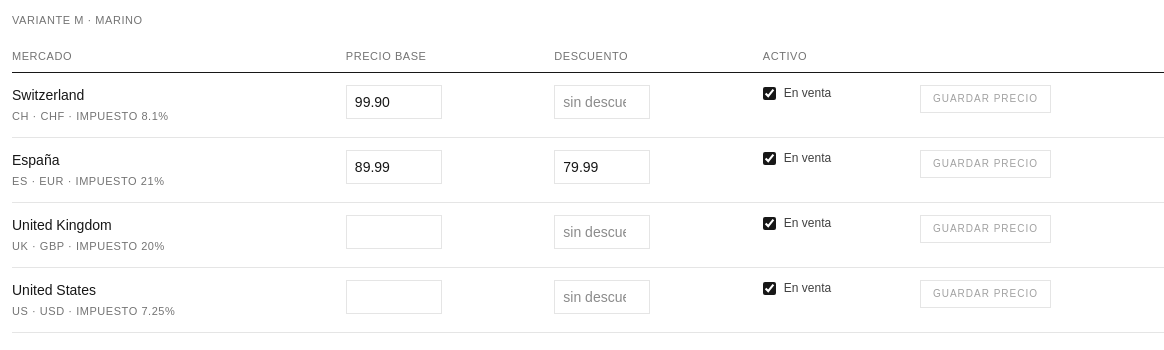
AdminSkuPrices › guarda una fila: PUT al mercado y «Precio guardado» (R7.1)
Check: the text "España" is shown, box [12,152,60,168]
Check: the button "Guardar precio" in the row of "España" is disabled, box [920,150,1051,178]
Replace the text in the 2nd number field named "Precio base en España" with "95" at (394, 167), box [346,150,442,184]
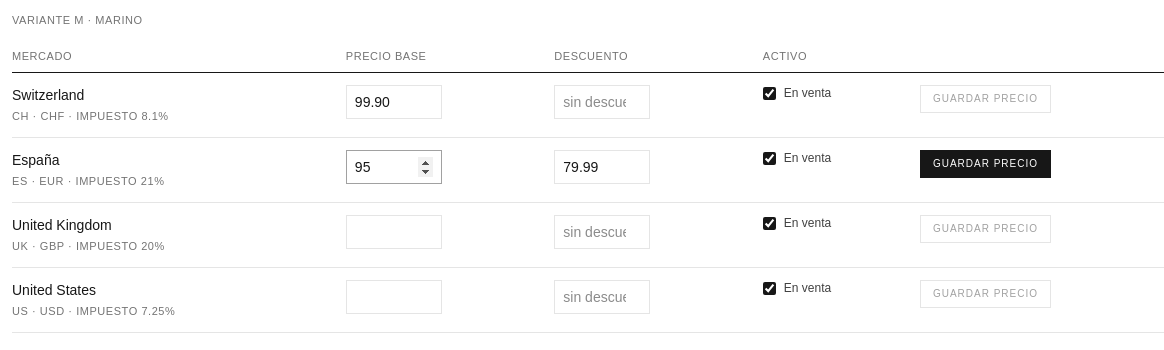
Check: the button "Guardar precio" in the row of "España" is enabled
Click the button "Guardar precio" in the row of "España" at (985, 164), box [920,150,1051,178]
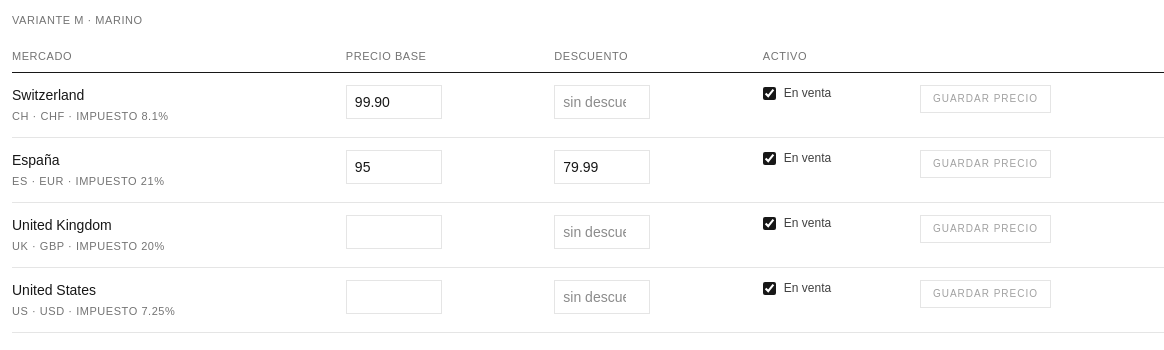
Check: the button "Guardar precio" in the row of "España" is disabled, box [920,150,1051,178]
